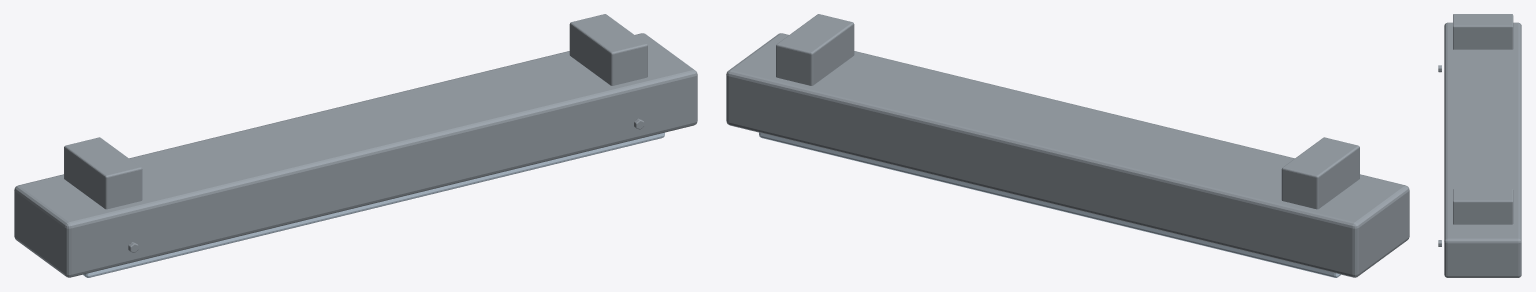
Rendered from CFD_SealedLight.fbx.
3 renders of one model, left to right at view 1: azimuth 30°, elevation 25°; view 2: azimuth 150°, elevation 25°; view 3: azimuth 270°, elevation 25°, orthographic. The views are drawn at different scales.
Visible parts, largest first — view 1: CFD_SealedLight; view 2: CFD_SealedLight; view 3: CFD_SealedLight.
Boxes of the visible parts, bbox=[...] form: CFD_SealedLight: bbox=[14, 14, 697, 277]; CFD_SealedLight: bbox=[726, 14, 1409, 277]; CFD_SealedLight: bbox=[1438, 14, 1521, 277].
Bounding box in the file's own units: 120 × 18 × 19.4.
